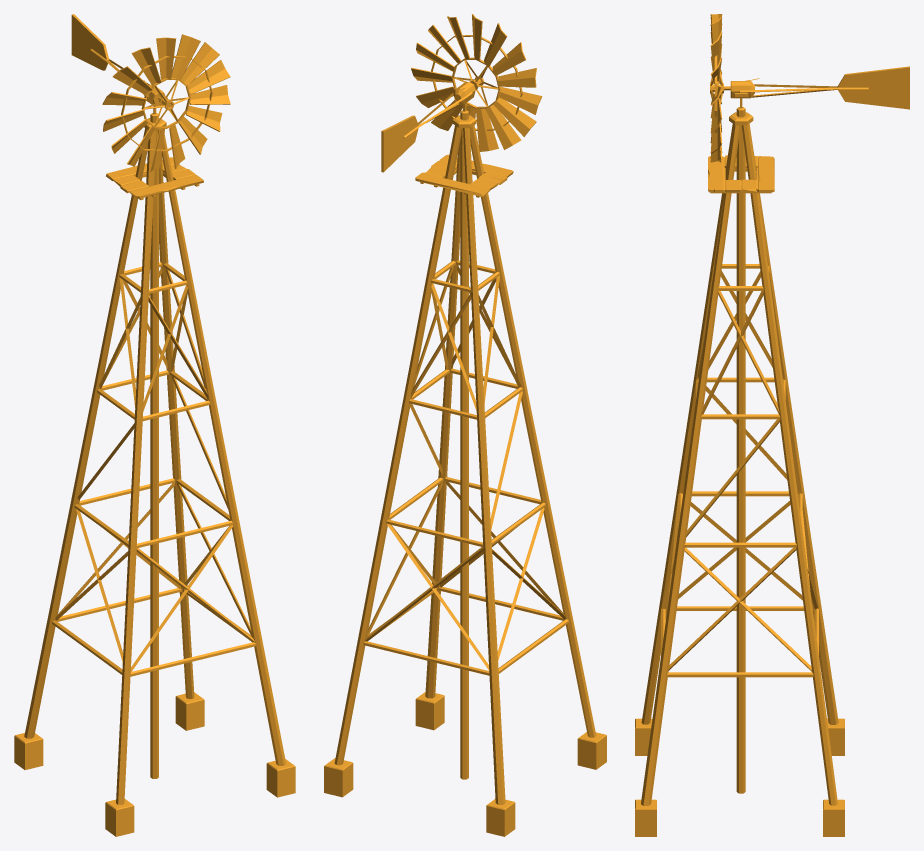
Rendered from SM_Windmill_Pump.fbx.
3 views of the same model, side by side, from view 1: azimuth 30°, elevation 25°; view 2: azimuth 150°, elevation 25°; view 3: azimuth 270°, elevation 25° (orthographic). The views are drawn at different scales.
Parts seen in each view (by area): view 1: windmill-pump-base, windmill-pump-rotor, windmill-pump-tail; view 2: windmill-pump-base, windmill-pump-rotor, windmill-pump-tail; view 3: windmill-pump-base, windmill-pump-tail, windmill-pump-rotor.
Boxes of the visible parts, <box> form: windmill-pump-base: <box>14,113,295,836</box>; windmill-pump-rotor: <box>102,34,230,172</box>; windmill-pump-tail: <box>71,14,165,114</box>; windmill-pump-base: <box>324,110,606,836</box>; windmill-pump-rotor: <box>411,14,542,151</box>; windmill-pump-tail: <box>381,81,475,172</box>; windmill-pump-base: <box>635,107,844,836</box>; windmill-pump-tail: <box>730,66,909,109</box>; windmill-pump-rotor: <box>710,14,730,162</box>.
Bounding box in the file's own units: 3.2 × 12.74 × 4.11.
